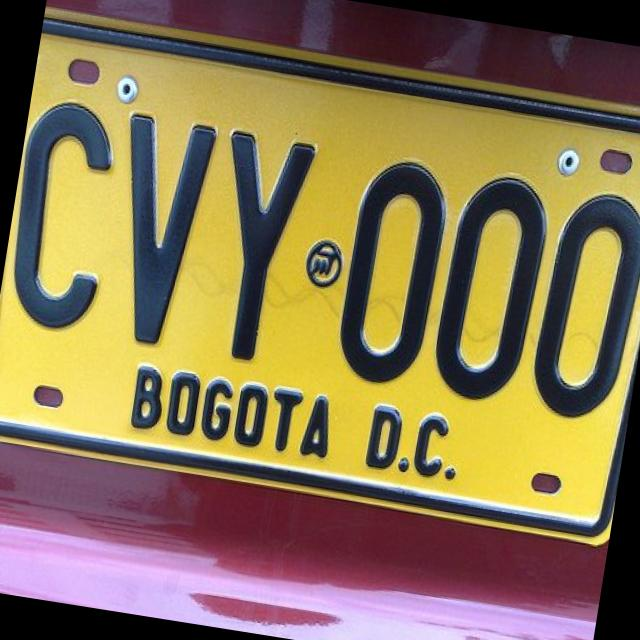number plate: (0, 8, 640, 540)
